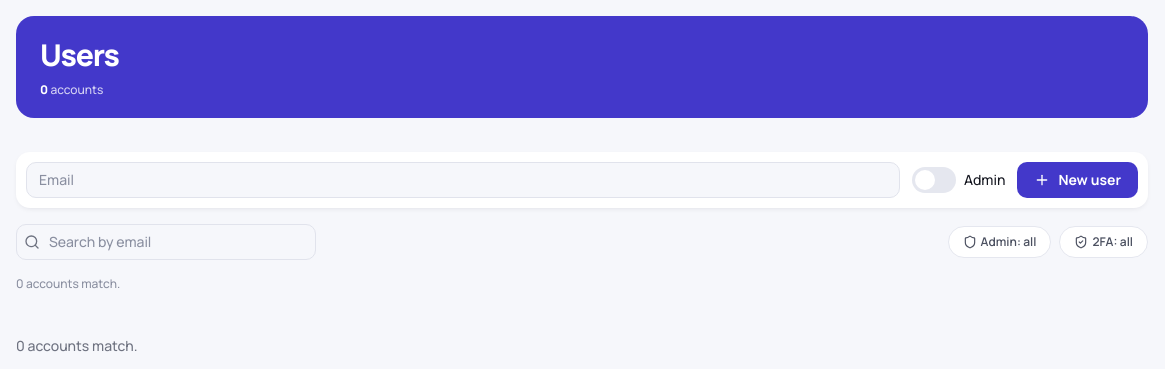
Test: admin user invitation › reports a rejected invitation exactly once
The width and height of the screenshot is (1165, 369).
Step 1. Type "taken@example.com" into the field with placeholder "Email" → {"x": 463, "y": 180}, box [26, 162, 900, 198]
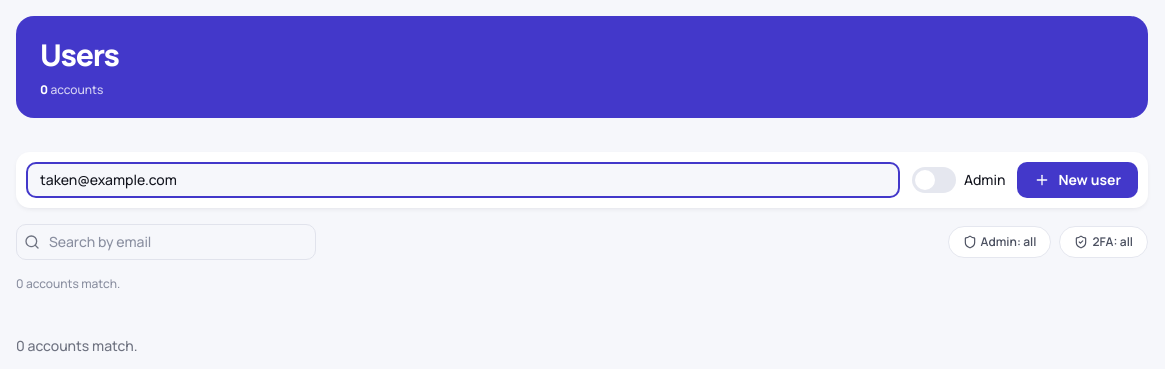
Step 2. Click the button "New user" → {"x": 1078, "y": 180}, box [1017, 162, 1138, 198]
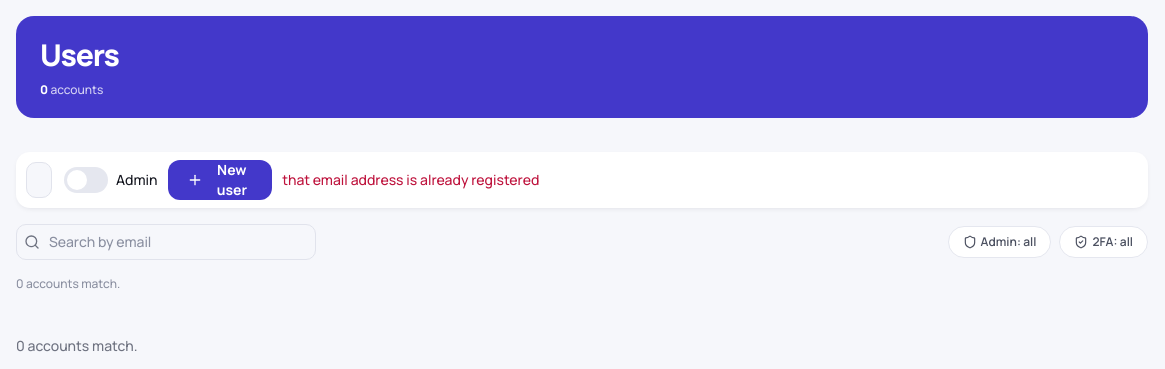
expect the text "that email address is already registered" is shown once: met, box [282, 170, 539, 188]
